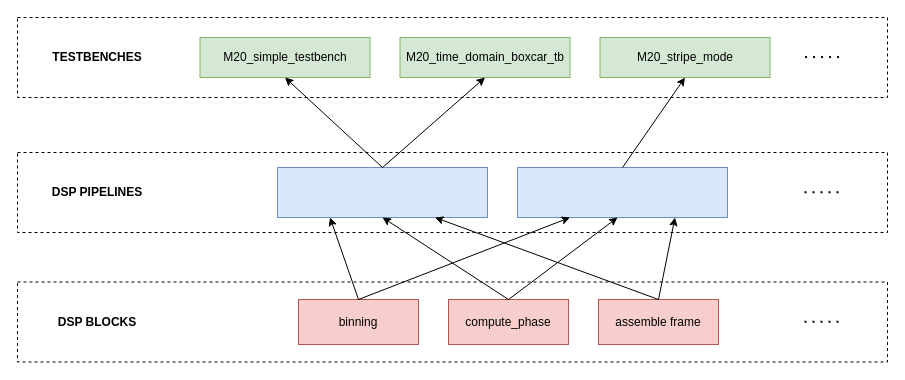
Image size: 905x380. Some labels were removed from this diagram. The centre of each missing label's shape, as x and y in pixels:
call(): default DSP pipeline: point 382,192
stripe_mode_process: point 622,192
